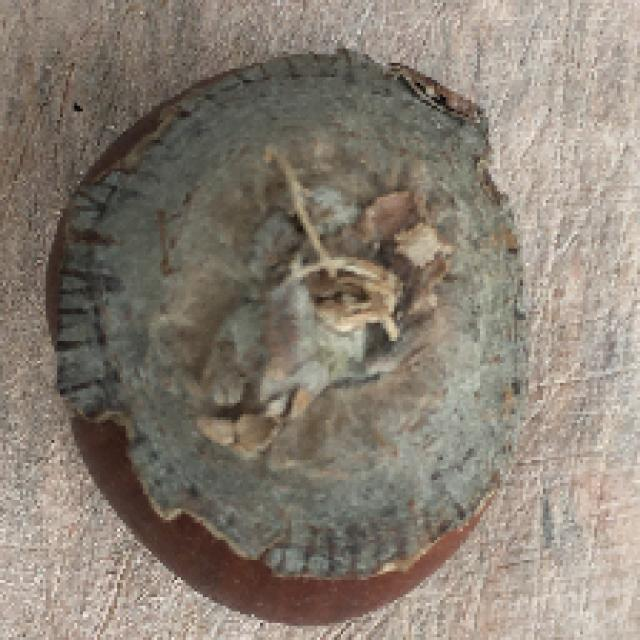damagedHazelnut: (46, 42, 568, 620)
